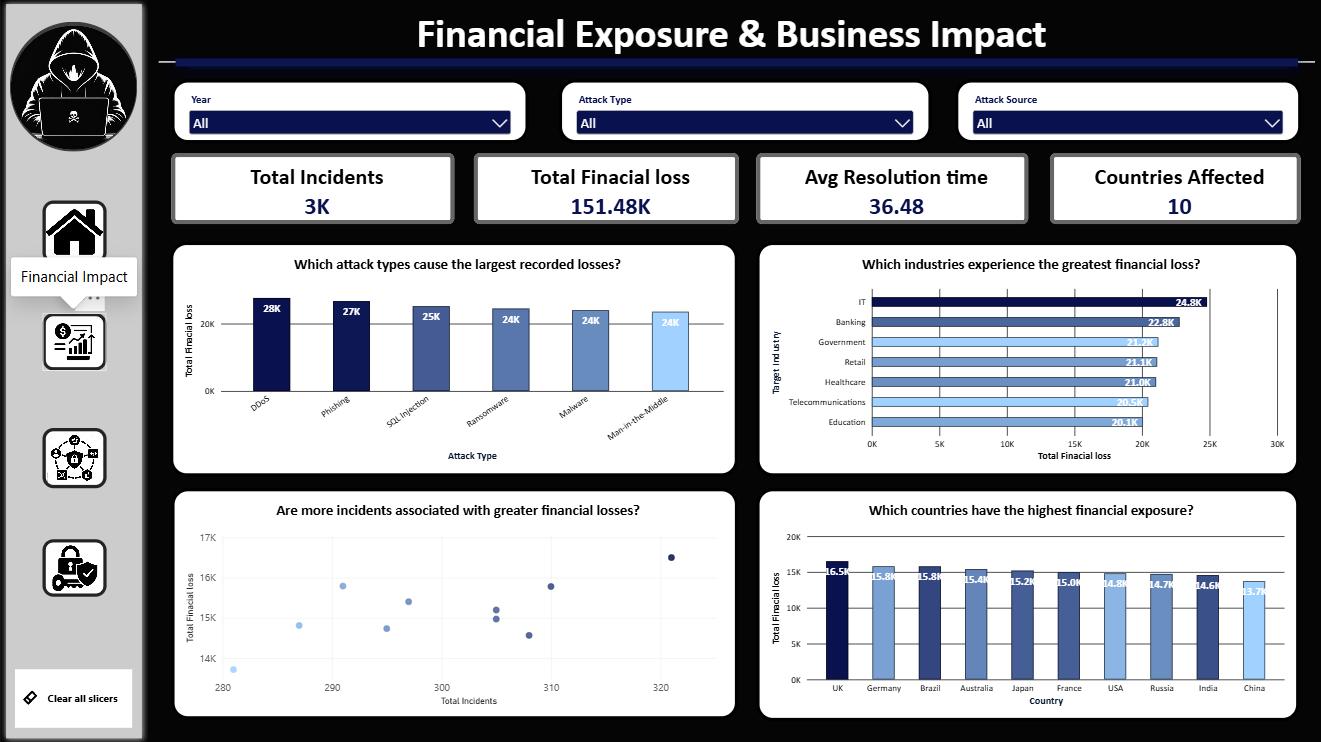

What the dashboard file says about the page in this screenshot:
{"tool":"powerbi","page":{"name":"Financial Impact ","canvas":[1920,1080],"ordinal":1},"visuals":[{"type":"textbox","box":[245.9,15.1,1638.6,87.8],"z":0},{"type":"shape","box":[0,0,214.1,1080.6],"z":1000},{"type":"shape","box":[230.4,80.9,1673.8,22.2],"z":2000},{"type":"image","box":[60.6,293.1,93,91],"z":3000},{"type":"shape","box":[230.4,64.7,1673.8,56.6],"z":4000},{"type":"image","box":[60.6,456.9,93,82.9],"z":5000},{"type":"image","box":[60.6,622.6,93,86.9],"z":6000},{"type":"image","box":[60.6,784.3,93,82.9],"z":7000},{"type":"slicer","fields":{"Values":["Global_Cybersecurity_Threats_20.Year"]},"box":[248.6,117.2,517.5,93],"z":8000},{"type":"slicer","fields":{"Values":["Table1.Attack Type"]},"box":[808.6,117.2,539.7,93],"z":9000},{"type":"slicer","fields":{"Values":["Global_Cybersecurity_Threats_20.Attack Source"]},"box":[1382.7,117.2,501.3,93],"z":10000},{"type":"actionButton","box":[22.2,972.3,169.8,84.9],"z":11000},{"type":"cardVisual","fields":{"Data":["Measure.Total Incidents"]},"box":[248.6,224.4,410.4,103.1],"z":12000},{"type":"cardVisual","fields":{"Data":["Measure.Total Finacial loss"]},"box":[685.3,224.4,384.1,103.1],"z":13000},{"type":"cardVisual","fields":{"Data":["Measure.Avg Resolution time"]},"box":[1095.6,224.4,394.2,103.1],"z":14000},{"type":"cardVisual","fields":{"Data":["Measure.Countries Affected"]},"box":[1520.2,224.4,363.9,103.1],"z":15000},{"type":"image","box":[14,34.9,183.7,188.4],"z":16000},{"type":"scatterChart","title":"Are more incidents associated with greater financial losses?","fields":{"Category":["Global_Cybersecurity_Threats_20.Country"],"X":["Measure.Total Incidents"],"Y":["Measure.Total Finacial loss"]},"box":[248.6,709.5,820.7,335.6],"z":17000},{"type":"clusteredBarChart","title":"Which industries experience the greatest financial loss?","fields":{"Category":["Global_Cybersecurity_Threats_20.Target Industry"],"Y":["Measure.Total Finacial loss"]},"box":[1095.6,353.8,786.4,339.6],"z":18000},{"type":"clusteredColumnChart","title":"Which countries have the highest financial exposure?","fields":{"Category":["Global_Cybersecurity_Threats_20.Country"],"Y":["Measure.Total Finacial loss"]},"box":[1095.6,709.5,786.4,337.6],"z":19000},{"type":"columnChart","title":"Which attack types cause the largest recorded losses?","fields":{"Category":["Table1.Attack Type"],"Y":["Measure.Total Finacial loss"]},"box":[246.6,353.8,822.7,339.6],"z":20000}]}

Visuals, with their boxes in screenshot pixels (x1, y1, x2, y2), scaled from the page's 1920x1080 canvas onto the 1321x742 screenshot:
textbox: (x1=169, y1=10, x2=1297, y2=71)
shape: (x1=0, y1=0, x2=147, y2=741)
shape: (x1=159, y1=56, x2=1310, y2=71)
image: (x1=42, y1=201, x2=106, y2=264)
shape: (x1=159, y1=44, x2=1310, y2=83)
image: (x1=42, y1=314, x2=106, y2=371)
image: (x1=42, y1=428, x2=106, y2=487)
image: (x1=42, y1=539, x2=106, y2=596)
slicer - Global_Cybersecurity_Threats_20.Year: (x1=171, y1=81, x2=527, y2=144)
slicer - Table1.Attack Type: (x1=556, y1=81, x2=928, y2=144)
slicer - Global_Cybersecurity_Threats_20.Attack Source: (x1=951, y1=81, x2=1296, y2=144)
actionButton: (x1=15, y1=668, x2=132, y2=726)
cardVisual - Measure.Total Incidents: (x1=171, y1=154, x2=453, y2=225)
cardVisual - Measure.Total Finacial loss: (x1=472, y1=154, x2=736, y2=225)
cardVisual - Measure.Avg Resolution time: (x1=754, y1=154, x2=1025, y2=225)
cardVisual - Measure.Countries Affected: (x1=1046, y1=154, x2=1296, y2=225)
image: (x1=10, y1=24, x2=136, y2=153)
"Are more incidents associated with greater financial losses?" scatterChart: (x1=171, y1=487, x2=736, y2=718)
"Which industries experience the greatest financial loss?" clusteredBarChart: (x1=754, y1=243, x2=1295, y2=476)
"Which countries have the highest financial exposure?" clusteredColumnChart: (x1=754, y1=487, x2=1295, y2=719)
"Which attack types cause the largest recorded losses?" columnChart: (x1=170, y1=243, x2=736, y2=476)
